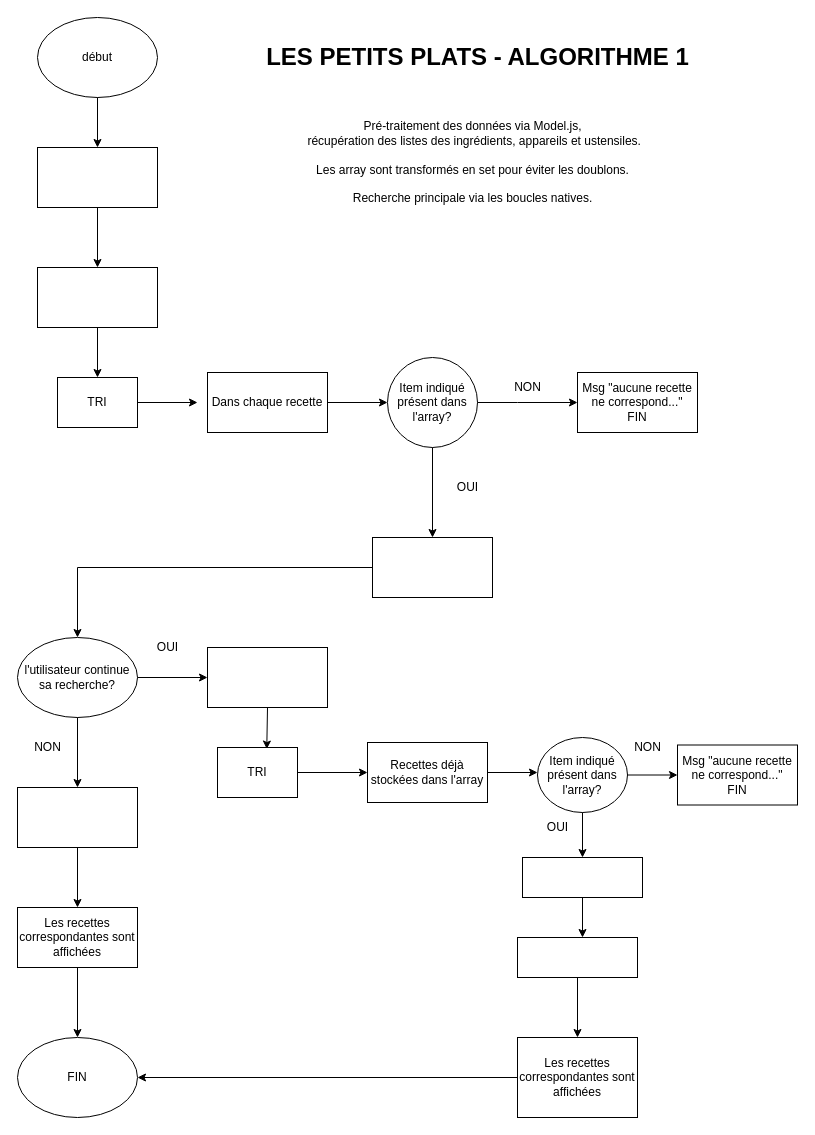
This 815x1135 diagram has some shape labels left out. Here are the shapes that lost their labels. From the top down, the centre of each, then its label:
the point at 97,177: Récupère l'array avec toutes les recettes + pré-traitement (model.js)
the point at 97,297: L'utilisateur entre plus de 3 caractères ou sélectionne un tag
the point at 432,567: Ajout au nouvel array
the point at 267,677: L'utilisateur ajoute un caractère ou sélectionne un tag
the point at 77,817: Le nouvel array devient l'array final
the point at 582,877: Ajout à l'array
the point at 577,957: Array final
